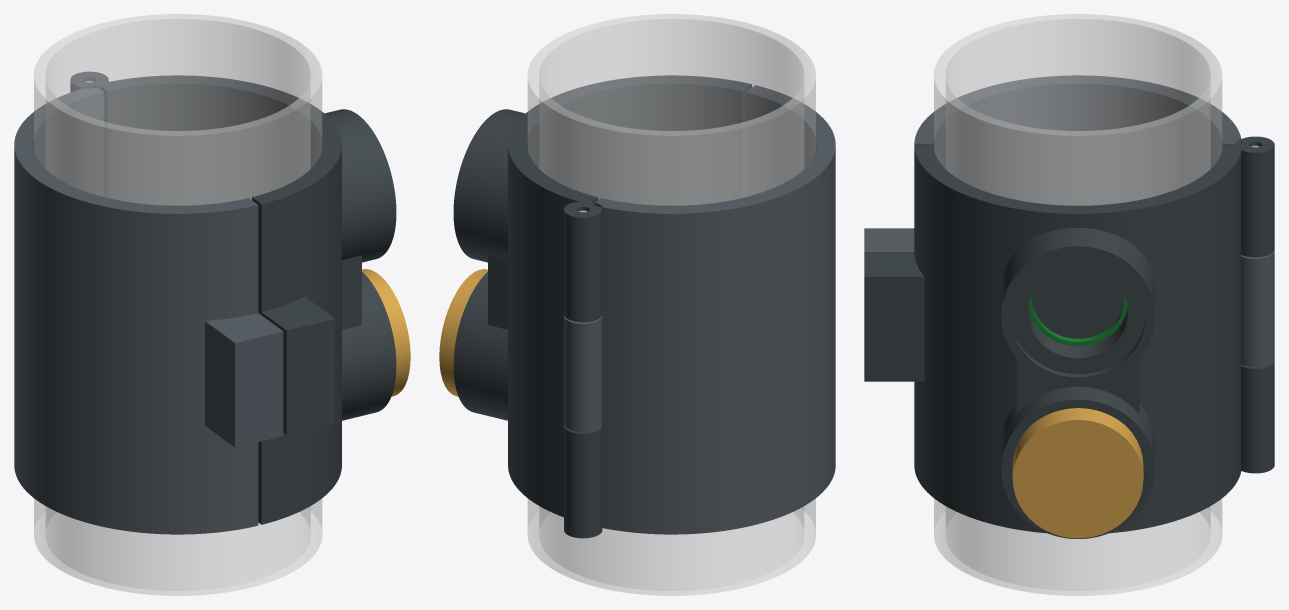
Rendered from pipe-collar-with-pod-v1.glb.
3 renders of one model, left to right at view 1: azimuth 30°, elevation 25°; view 2: azimuth 150°, elevation 25°; view 3: azimuth 270°, elevation 25°, orthographic.
Parts seen in each view (by area): view 1: collar_back_half, pipe_75, collar_front_half, pod; view 2: collar_back_half, collar_front_half, pipe_75, pod; view 3: collar_front_half, pipe_75, collar_back_half, pod, seat_oring_24x2.
Part boxes in pixels (bbox=[...]): collar_back_half: bbox=[14, 87, 283, 534]; pipe_75: bbox=[34, 14, 322, 595]; collar_front_half: bbox=[70, 71, 396, 524]; pod: bbox=[362, 269, 410, 396]; collar_back_half: bbox=[564, 85, 835, 534]; collar_front_half: bbox=[453, 75, 751, 538]; pipe_75: bbox=[527, 14, 815, 595]; pod: bbox=[439, 269, 487, 396]; collar_front_half: bbox=[864, 136, 1274, 538]; pipe_75: bbox=[934, 14, 1222, 595]; collar_back_half: bbox=[864, 75, 1274, 366]; pod: bbox=[1012, 408, 1143, 538]; seat_oring_24x2: bbox=[1028, 295, 1127, 345].
Size of the model in its own units: 103 by 132 by 107.
